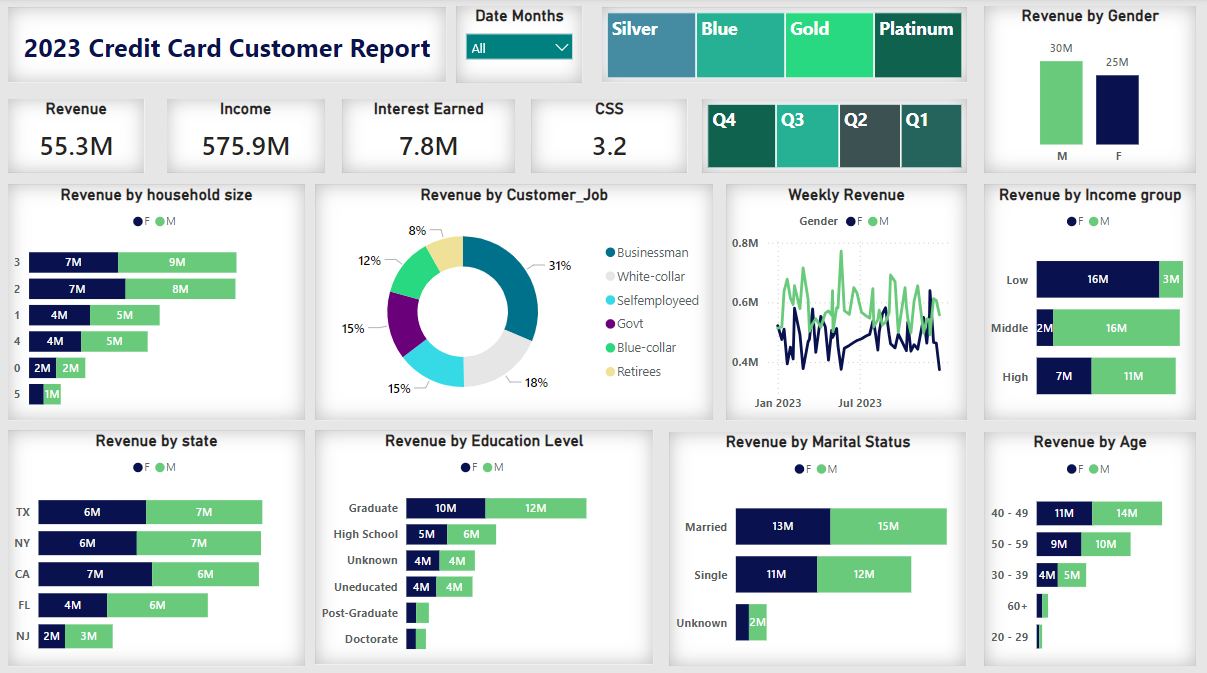

Layout of this report page (visuals, bound fields, positions):
{"tool":"powerbi","page":{"name":"Customer Report","canvas":[1280,720],"ordinal":0},"visuals":[{"type":"donutChart","fields":{"Category":["customer.Customer_Job"],"Y":["Divide(Calcs customers.Revenue, ScopedEval(Calcs customers.Revenue, []))"]},"box":[335.6,198.8,421.5,249.7],"z":0},{"type":"barChart","title":"Revenue by Marital Status","fields":{"Category":["customer.Marital_Status"],"Y":["Calcs customers.Revenue"],"Series":["customer.Gender"]},"box":[711,461.3,314.9,248.1],"z":1000},{"type":"barChart","title":"Revenue by state","fields":{"Category":["customer.state_cd"],"Y":["Calcs customers.Revenue"],"Series":["customer.Gender"]},"box":[9.5,459.7,314.9,249.7],"z":2000},{"type":"barChart","title":"Revenue by Education Level","fields":{"Category":["customer.Education_Level"],"Y":["Calcs customers.Revenue"],"Series":["customer.Gender"]},"box":[335.6,459.7,357.9,248.1],"z":3000},{"type":"card","title":"Revenue","fields":{"Values":["Calcs customers.Revenue"]},"box":[9.5,108.2,144.7,77.9],"z":4000},{"type":"card","title":"Interest Earned","fields":{"Values":["Calcs customers.Interest earned"]},"box":[364.2,108.2,182.9,77.9],"z":5000},{"type":"card","title":"Income","fields":{"Values":["Calcs customers.Income"]},"box":[178.1,108.2,167,77.9],"z":6000},{"type":"card","title":"CSS","fields":{"Values":["Avg(customer.Cust_Satisfaction_Score)"]},"box":[564.7,108.2,165.4,77.9],"z":7000},{"type":"textbox","box":[9.5,11.1,464.5,79.5],"z":8000},{"type":"treemap","fields":{"Values":["Avg(credit_card.Client_Num)"],"Group":["credit_card.Card_Category"]},"box":[639.4,11.1,386.5,79.5],"z":9000},{"type":"lineChart","title":"Weekly Revenue","fields":{"Category":["credit_card.Week_Start_Date.Variation.Date Hierarchy.Year","credit_card.Week_Start_Date.Variation.Date Hierarchy.Quarter","credit_card.Week_Start_Date.Variation.Date Hierarchy.Month","credit_card.Week_Start_Date.Variation.Date Hierarchy.Day"],"Y":["Calcs customers.Revenue"],"Series":["customer.Gender"]},"box":[771.4,198.8,254.5,249.7],"z":10000},{"type":"barChart","title":"Revenue by household size ","fields":{"Category":["customer.Dependent_Count"],"Y":["Calcs customers.Revenue"],"Series":["customer.Gender"]},"box":[9.5,198.8,314.9,249.7],"z":11000},{"type":"slicer","title":"Date Months","fields":{"Values":["credit_card.Week_Start_Date.Variation.Date Hierarchy.Month"]},"box":[485.1,9.5,133.6,81.1],"z":12000},{"type":"treemap","fields":{"Group":["credit_card.Qtr"],"Values":["Avg(credit_card.Client_Num)"]},"box":[746,108.2,279.9,77.9],"z":13000},{"type":"clusteredColumnChart","title":"Revenue by Gender","fields":{"Category":["customer.Gender"],"Y":["Calcs customers.Revenue"]},"box":[1045,9.5,224.3,176.6],"z":14000},{"type":"barChart","title":"Revenue by Income group","fields":{"Category":["customer.Income (groups)"],"Y":["Calcs customers.Revenue"],"Series":["customer.Gender"]},"box":[1045,198.8,224.3,249.7],"z":15000},{"type":"barChart","title":"Revenue by Age","fields":{"Category":["customer.Customer_Age (groups)"],"Y":["Calcs customers.Revenue"],"Series":["customer.Gender"]},"box":[1045,461.3,224.3,248.1],"z":16000}]}

Visuals, with their boxes in screenshot pixels (x1, y1, x2, y2), scaled from the page's 1280x720 canvas onto the 1207x673 screenshot:
donutChart - customer.Customer_Job x Divide(Calcs customers.Revenue, ScopedEval(Calcs customers.Revenue, [])): bbox(316, 186, 714, 419)
"Revenue by Marital Status" barChart: bbox(670, 431, 967, 663)
"Revenue by state" barChart: bbox(9, 430, 306, 663)
"Revenue by Education Level" barChart: bbox(316, 430, 654, 662)
"Revenue" card: bbox(9, 101, 145, 174)
"Interest Earned" card: bbox(343, 101, 516, 174)
"Income" card: bbox(168, 101, 325, 174)
"CSS" card: bbox(532, 101, 688, 174)
textbox: bbox(9, 10, 447, 85)
treemap - Avg(credit_card.Client_Num) x credit_card.Card_Category: bbox(603, 10, 967, 85)
"Weekly Revenue" lineChart: bbox(727, 186, 967, 419)
"Revenue by household size " barChart: bbox(9, 186, 306, 419)
"Date Months" slicer: bbox(457, 9, 583, 85)
treemap - credit_card.Qtr x Avg(credit_card.Client_Num): bbox(703, 101, 967, 174)
"Revenue by Gender" clusteredColumnChart: bbox(985, 9, 1197, 174)
"Revenue by Income group" barChart: bbox(985, 186, 1197, 419)
"Revenue by Age" barChart: bbox(985, 431, 1197, 663)
